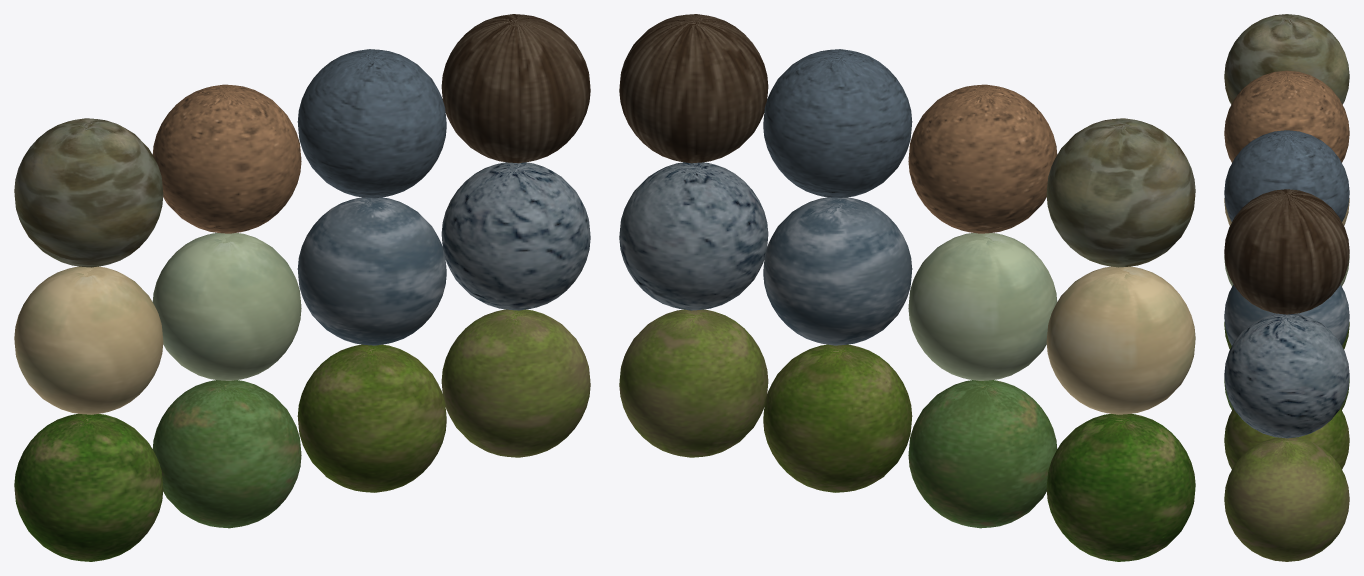
The model's file is low_poly_materials_pack_1.glb.
3 views of the same model, side by side, from view 1: azimuth 30°, elevation 25°; view 2: azimuth 150°, elevation 25°; view 3: azimuth 270°, elevation 25° (orthographic). The views are drawn at different scales.
Parts seen in each view (by area): view 1: cobblestone_01_8, rock_03_10, tree_trunk_11, path_01_4, rock_01_6, ground_04_3, ground_01_0, ground_03_2, rock_02_7, dirt_01_9, path_02_5, ground_02_1; view 2: cobblestone_01_8, rock_03_10, tree_trunk_11, path_01_4, rock_01_6, ground_04_3, ground_01_0, ground_03_2, rock_02_7, dirt_01_9, path_02_5, ground_02_1; view 3: tree_trunk_11, ground_04_3, rock_02_7, dirt_01_9, rock_03_10, cobblestone_01_8, ground_03_2, rock_01_6.
Part boxes in pixels (bbox=[...]): cobblestone_01_8: bbox=[14, 118, 163, 267]; rock_03_10: bbox=[297, 49, 446, 198]; tree_trunk_11: bbox=[441, 14, 590, 163]; path_01_4: bbox=[14, 266, 163, 414]; rock_01_6: bbox=[297, 197, 446, 345]; ground_04_3: bbox=[441, 309, 590, 457]; ground_01_0: bbox=[14, 413, 163, 561]; ground_03_2: bbox=[297, 344, 446, 492]; rock_02_7: bbox=[441, 162, 590, 310]; dirt_01_9: bbox=[152, 84, 301, 233]; path_02_5: bbox=[152, 233, 301, 380]; ground_02_1: bbox=[152, 380, 301, 528]; cobblestone_01_8: bbox=[1046, 118, 1195, 267]; rock_03_10: bbox=[763, 49, 912, 198]; tree_trunk_11: bbox=[619, 14, 768, 163]; path_01_4: bbox=[1046, 266, 1195, 414]; rock_01_6: bbox=[763, 197, 912, 345]; ground_04_3: bbox=[619, 309, 768, 457]; ground_01_0: bbox=[1046, 413, 1195, 561]; ground_03_2: bbox=[763, 344, 912, 492]; rock_02_7: bbox=[619, 162, 768, 310]; dirt_01_9: bbox=[908, 84, 1057, 233]; path_02_5: bbox=[908, 233, 1057, 380]; ground_02_1: bbox=[908, 380, 1057, 528]; tree_trunk_11: bbox=[1224, 189, 1349, 314]; ground_04_3: bbox=[1224, 437, 1349, 561]; rock_02_7: bbox=[1224, 313, 1349, 438]; dirt_01_9: bbox=[1224, 70, 1349, 162]; rock_03_10: bbox=[1224, 130, 1349, 221]; cobblestone_01_8: bbox=[1224, 14, 1349, 104]; ground_03_2: bbox=[1224, 408, 1349, 469]; rock_01_6: bbox=[1224, 284, 1349, 345].
Size of the model in its own units: 8.61 by 6.35 by 2.
Materials: 12 (12 with a texture image).
